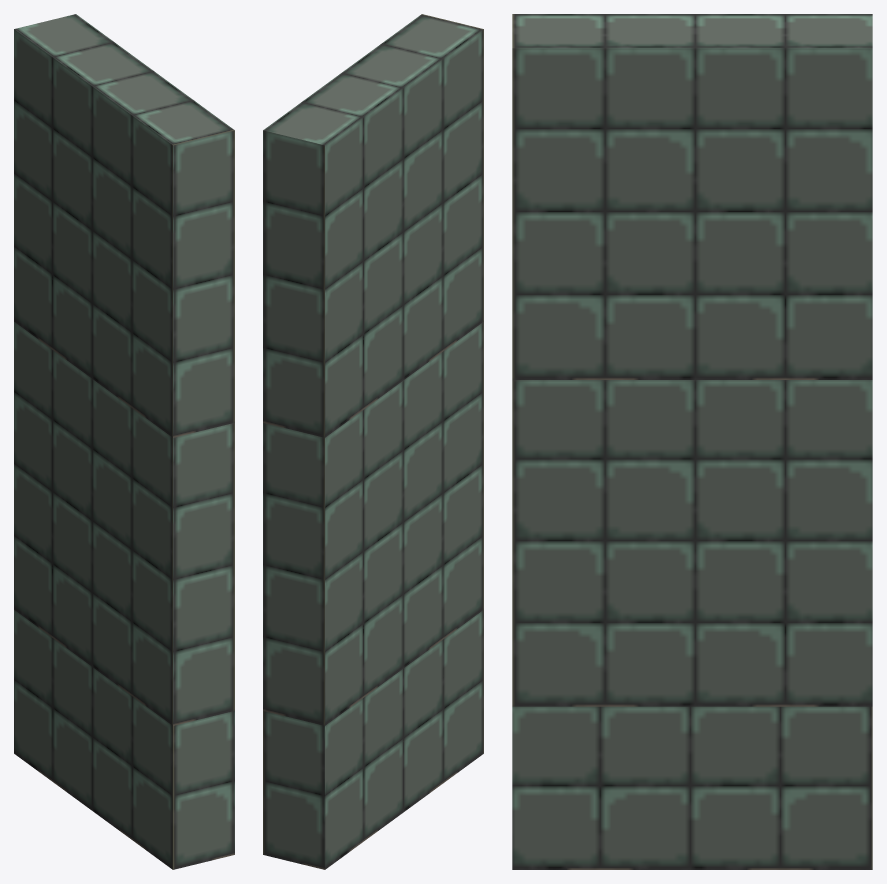
The model's file is obj_wall_1x2m_v5.fbx.
The picture shows the model from 3 angles, left to right: view 1: azimuth 30°, elevation 25°; view 2: azimuth 150°, elevation 25°; view 3: azimuth 270°, elevation 25°; orthographic projection. The views are drawn at different scales.
Visible parts, largest first — view 1: obj_wall_1x2m_v5; view 2: obj_wall_1x2m_v5; view 3: obj_wall_1x2m_v5.
Part boxes in pixels (<box>): obj_wall_1x2m_v5: <box>14,14,234,869</box>; obj_wall_1x2m_v5: <box>263,14,483,869</box>; obj_wall_1x2m_v5: <box>512,14,872,869</box>.
Size of the model in its own units: 22.5 by 252 by 100.
